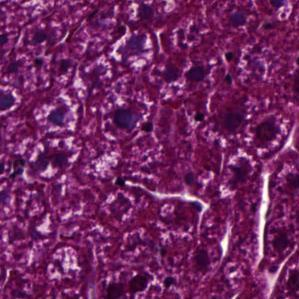inflammation: (239, 107, 291, 157), (34, 87, 85, 135), (105, 23, 158, 69)
